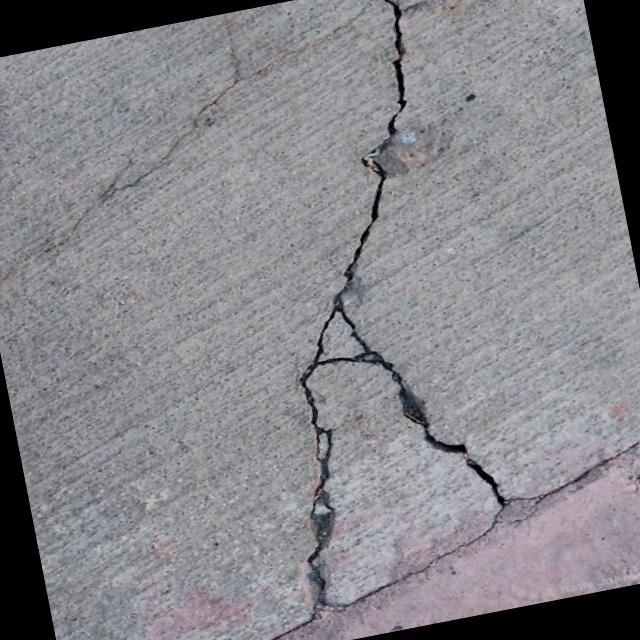crack: (254, 278, 558, 620), (0, 2, 336, 292), (270, 0, 502, 311)
